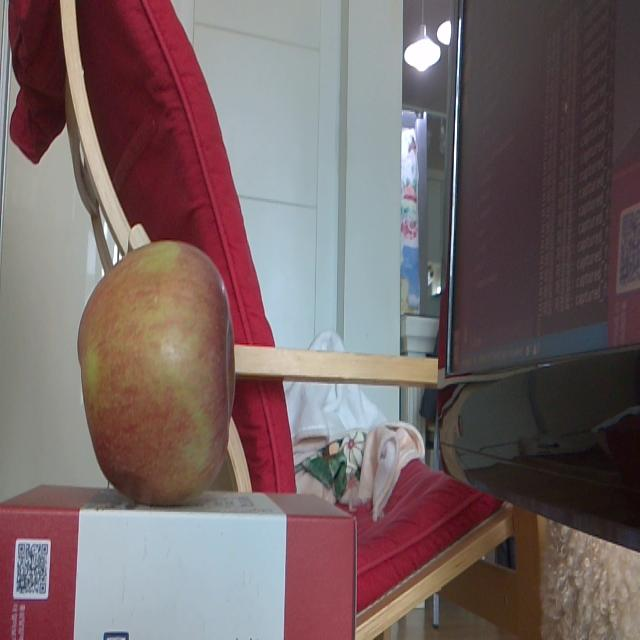apple: (79, 240, 236, 503)
